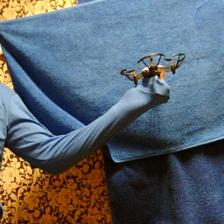drone: (122, 53, 188, 86)
